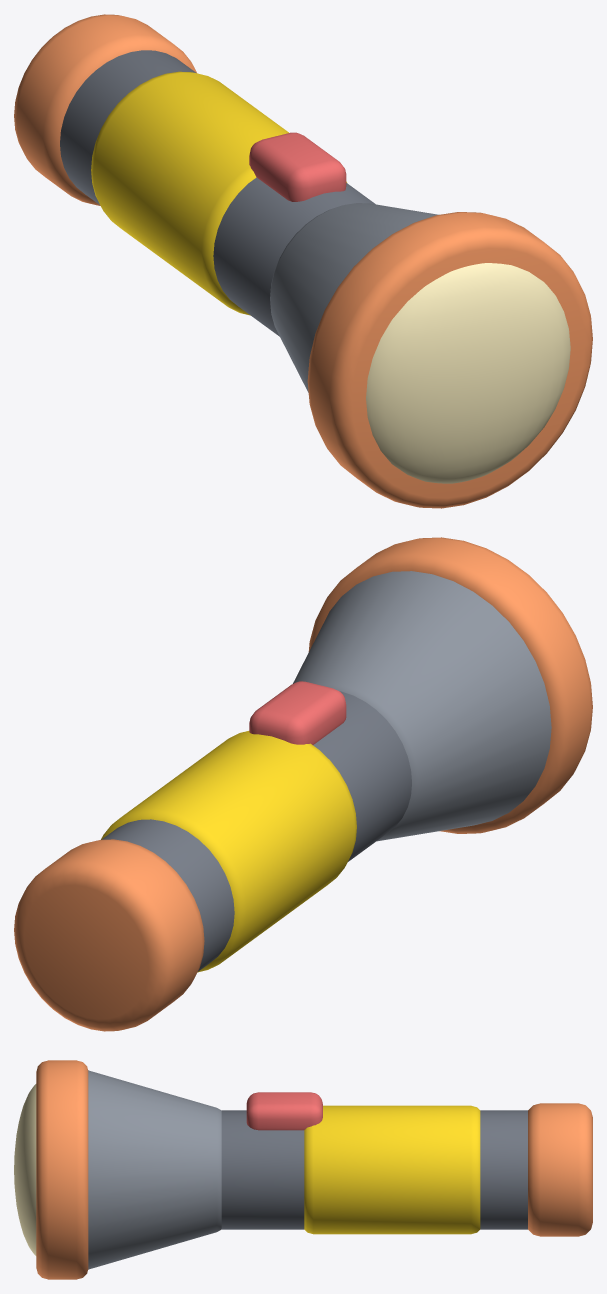
File: SM_Flashlight.fbx
The picture shows the model from 3 angles, top to bottom: view 1: azimuth 30°, elevation 25°; view 2: azimuth 150°, elevation 25°; view 3: azimuth 270°, elevation 25°; orthographic projection. The views are drawn at different scales.
Parts seen in each view (by area): view 1: SM_Flashlight; view 2: SM_Flashlight; view 3: SM_Flashlight.
Boxes of the visible parts, x1,y1,x2,y2 form: SM_Flashlight: (14, 14, 592, 508); SM_Flashlight: (14, 537, 592, 1031); SM_Flashlight: (14, 1060, 592, 1279).
Size of the model in its own units: 13.8 by 13.8 by 36.34.
